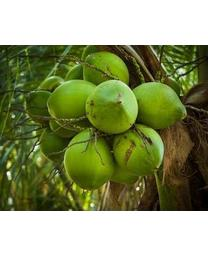coconut: (63, 129, 113, 191), (82, 81, 138, 135), (116, 124, 163, 177), (133, 81, 190, 123), (81, 53, 133, 91), (46, 83, 101, 118)
